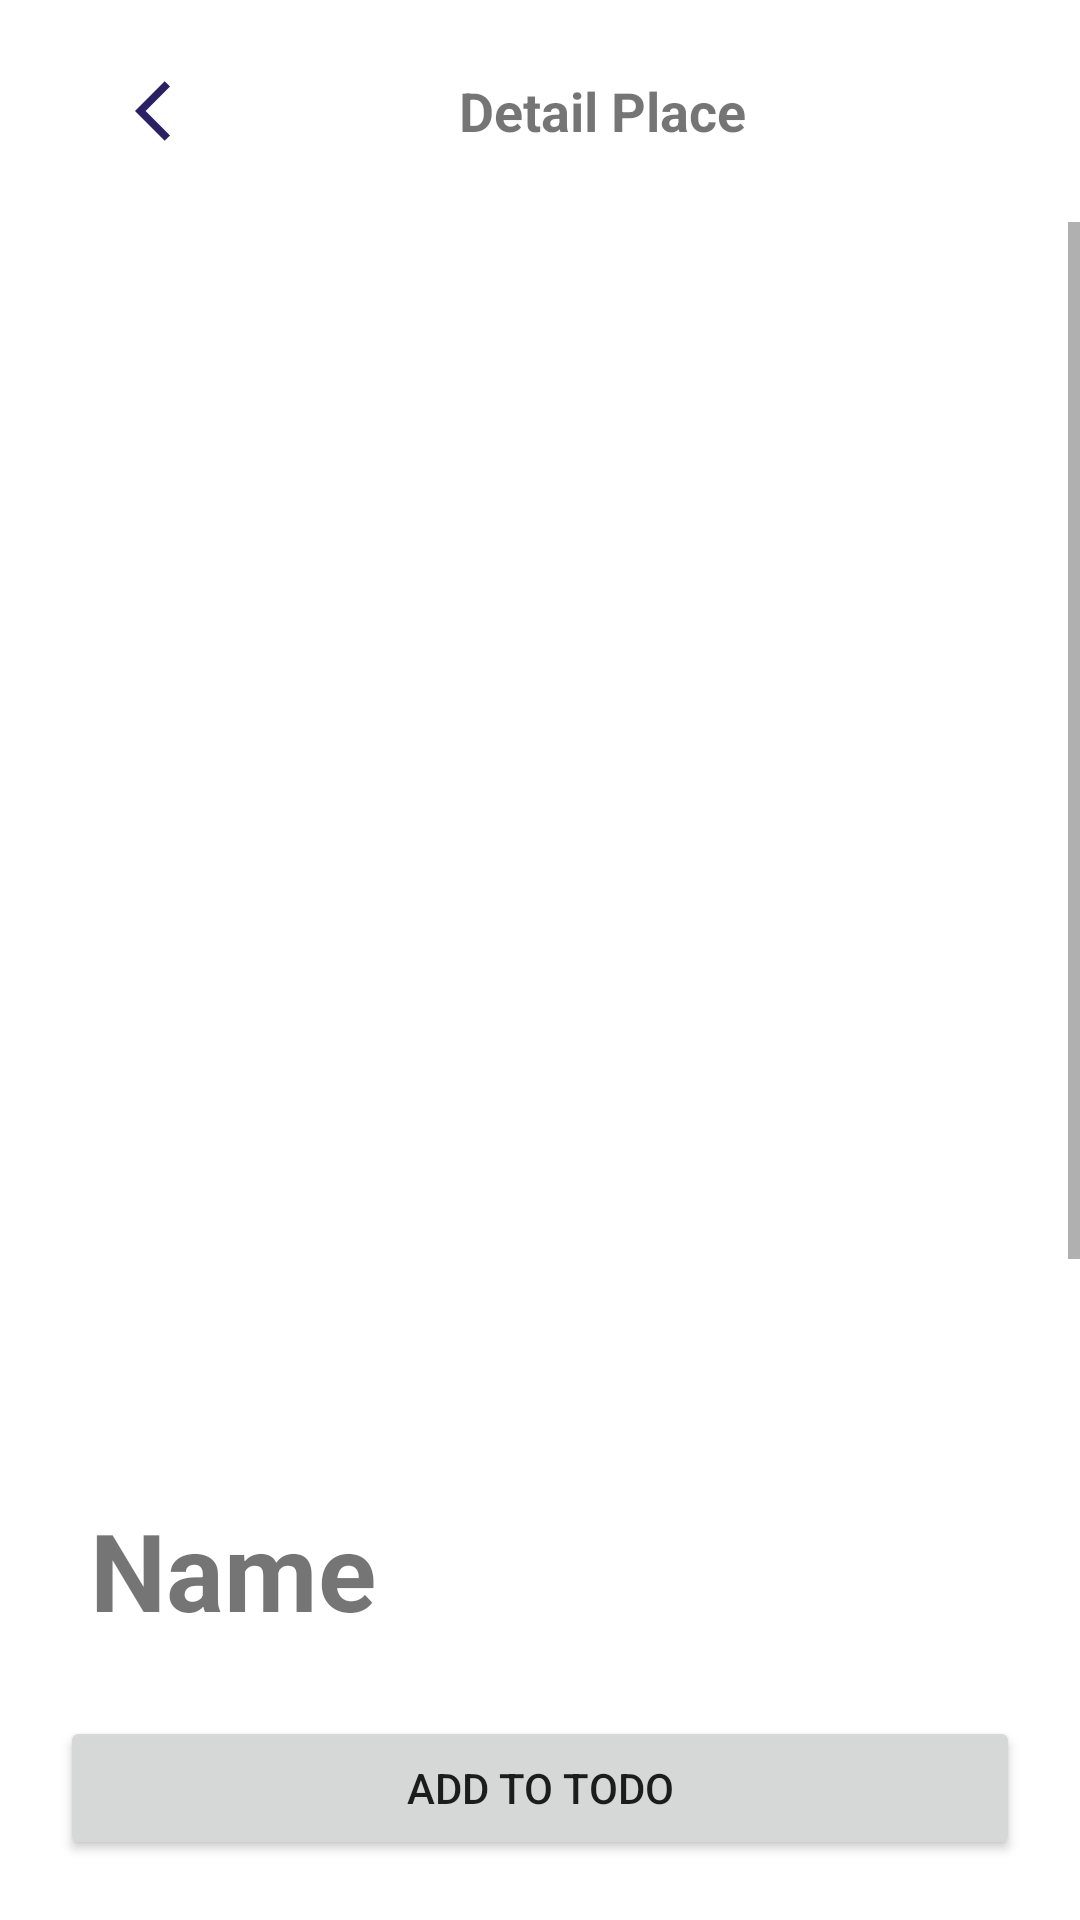

Where icons sit on this 1080×1920 app screen, as (x1,y1,x2,y2):
back: (135,81,170,141)
